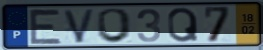3: (135, 8, 162, 43)
7: (203, 5, 233, 44)
E: (27, 7, 64, 45)
O: (95, 7, 134, 45)
Q: (166, 6, 201, 44)
V: (62, 7, 98, 45)
